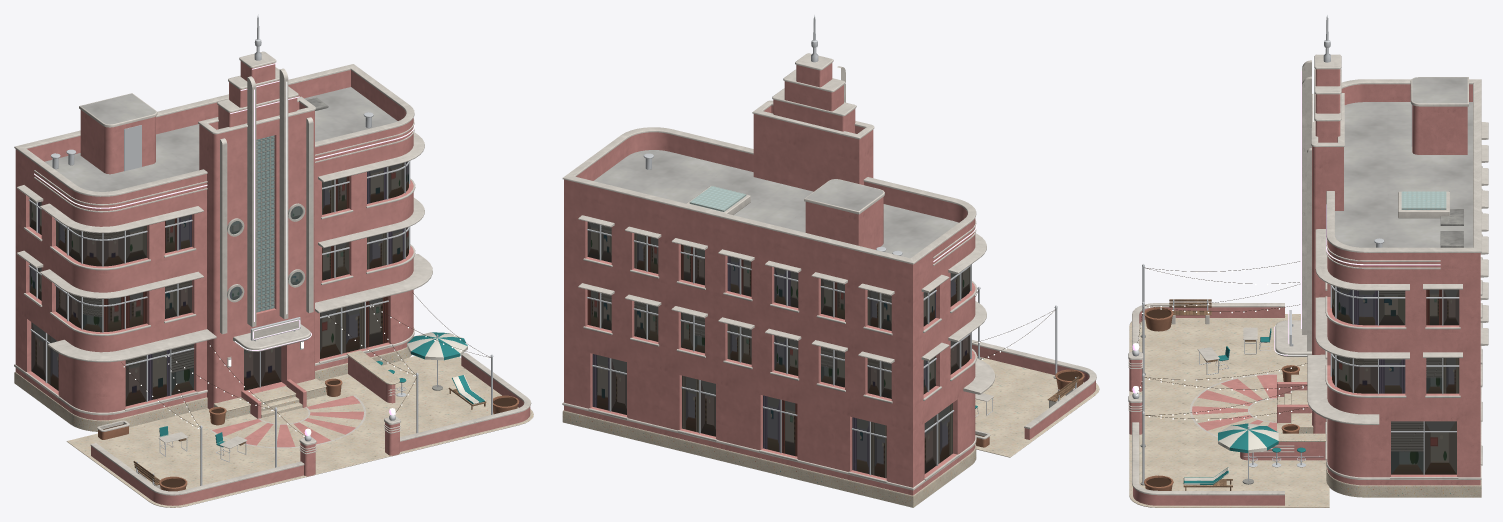
File: plot_deco_hotel.gltf
3 renders of one model, left to right at view 1: azimuth 30°, elevation 25°; view 2: azimuth 150°, elevation 25°; view 3: azimuth 270°, elevation 25°, orthographic. The views are drawn at different scales.
Parts seen in each view (by area): view 1: plot_deco_hotel_mesh; view 2: plot_deco_hotel_mesh; view 3: plot_deco_hotel_mesh.
Boxes of the visible parts, <box> form: plot_deco_hotel_mesh: <box>14,14,533,507</box>; plot_deco_hotel_mesh: <box>562,15,1099,507</box>; plot_deco_hotel_mesh: <box>1128,15,1488,507</box>.
Size of the model in its own units: 19.4 by 18.6 by 15.28.
Materials: 15 (10 with a texture image).
